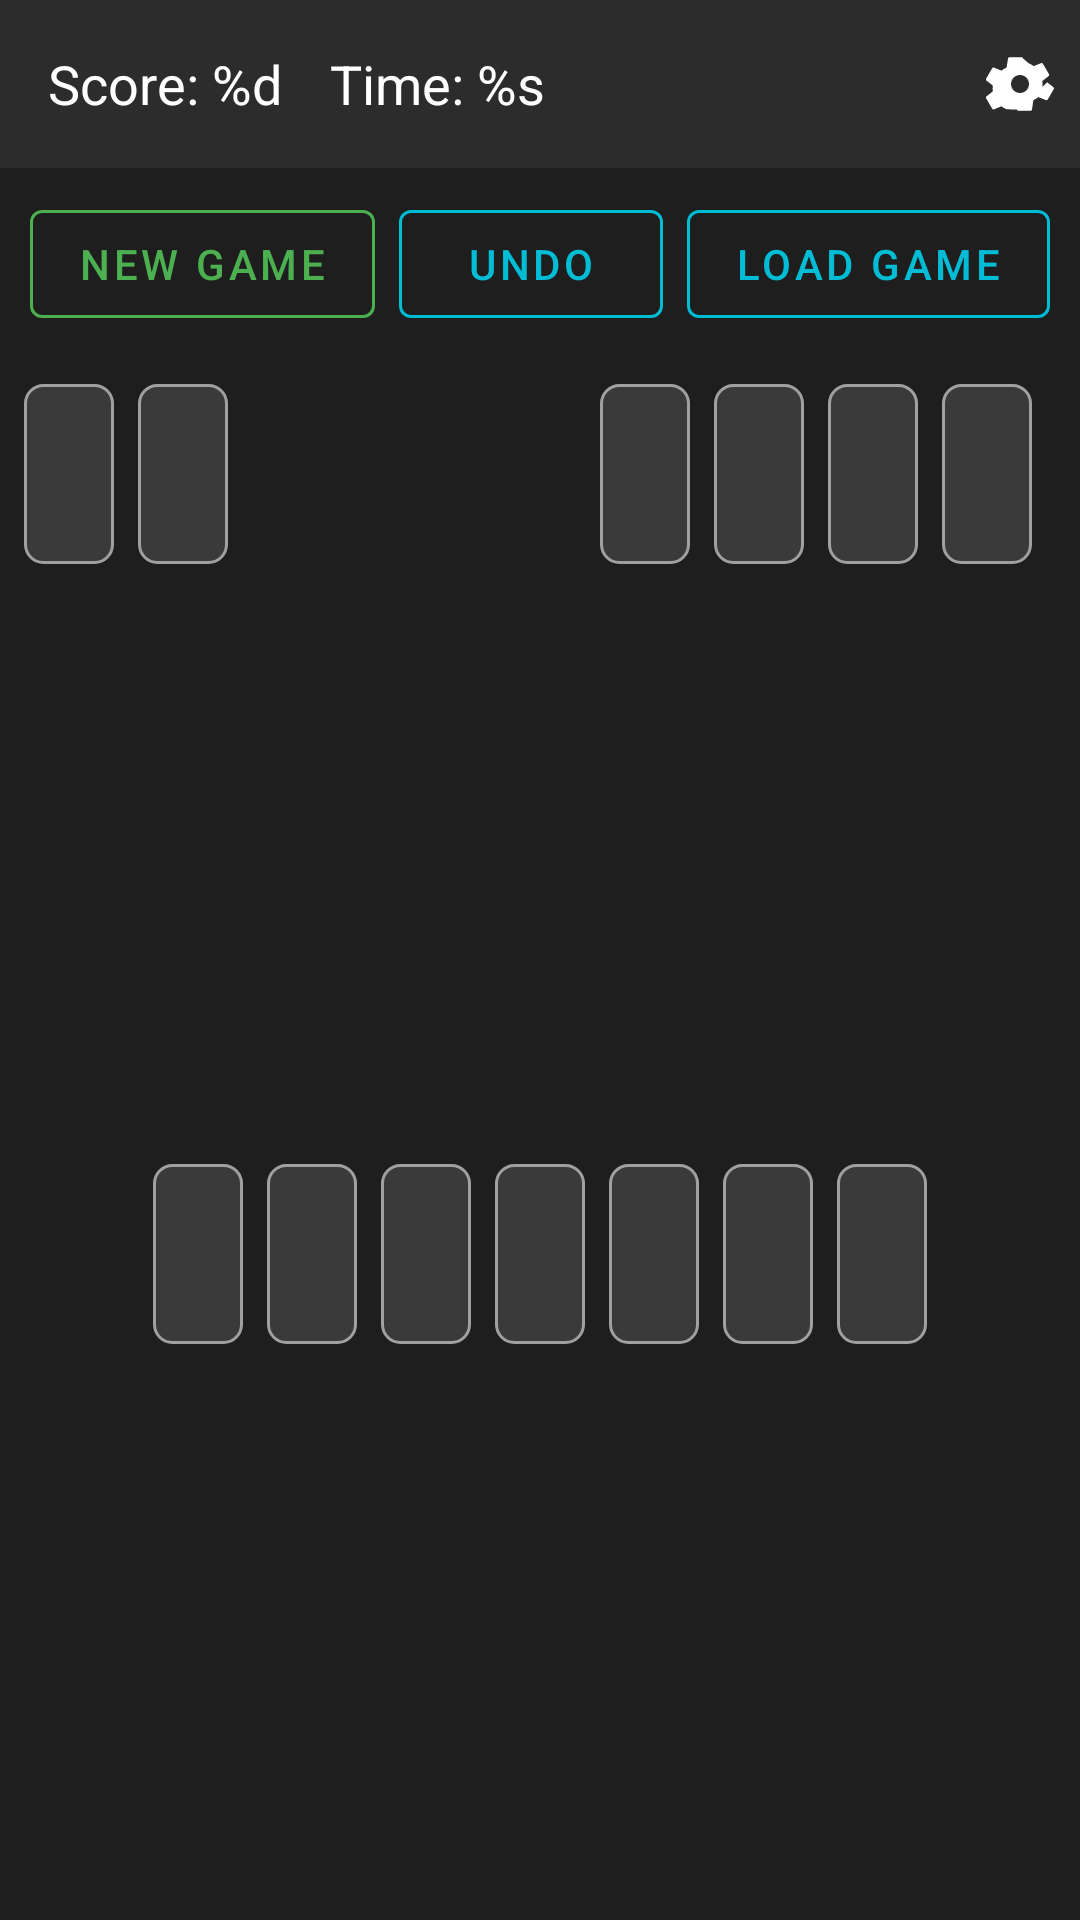

Named icons in this screenshot (1080px x 1920px) and their bounding boxes, (x1, y1, x2, y2):
Settings: (986, 57, 1054, 111)
